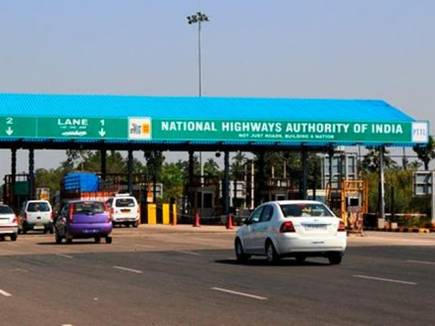toll plaza: (1, 102, 434, 157)
